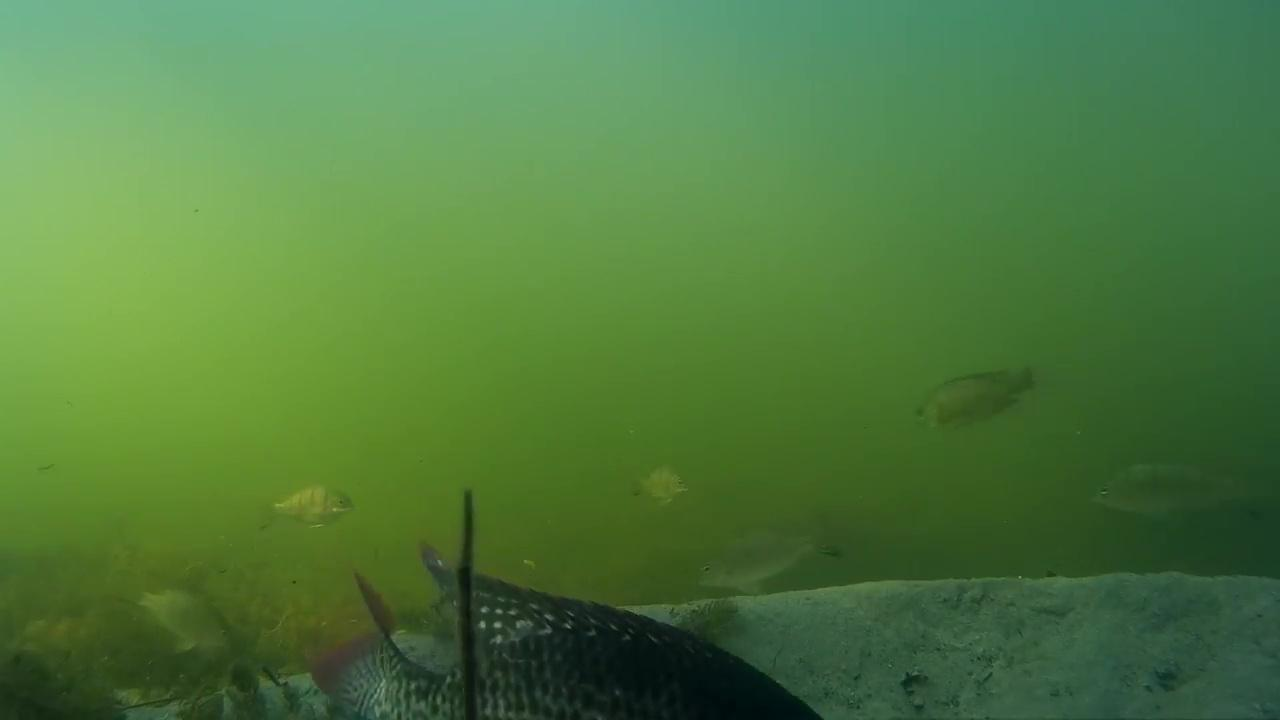Tilapia: (296, 540, 837, 718), (688, 516, 851, 606), (1099, 456, 1260, 528), (139, 576, 259, 672), (913, 358, 1036, 436), (272, 474, 371, 536), (629, 466, 692, 500)
